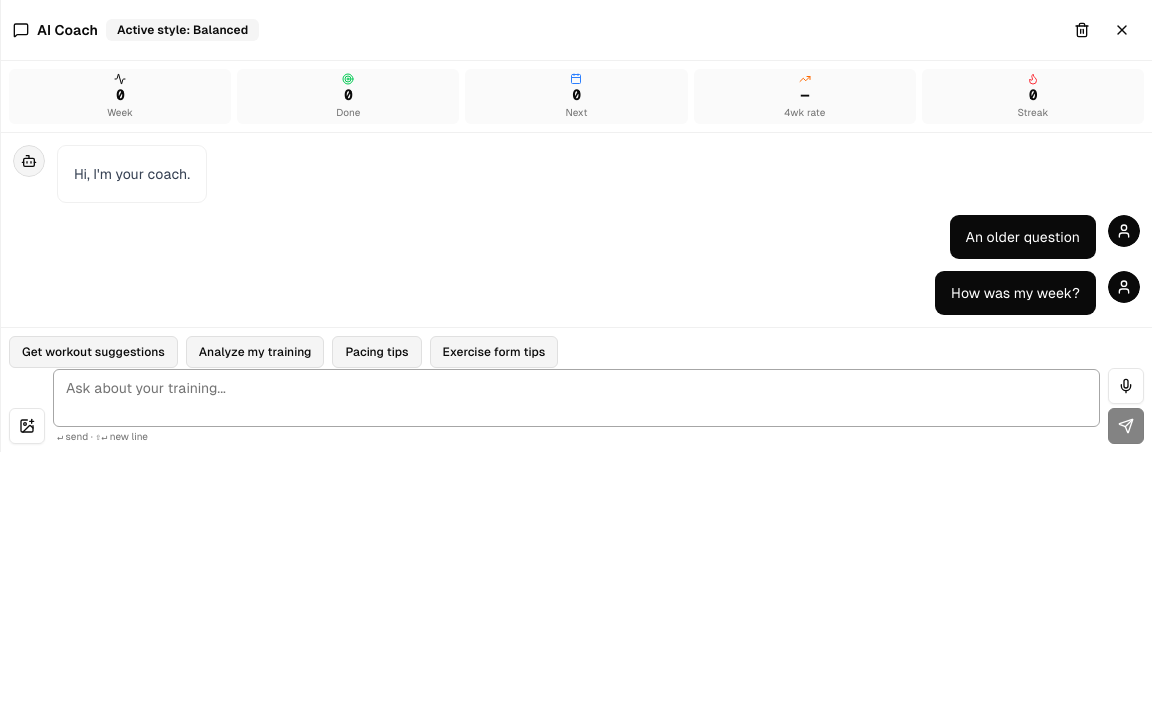
Test: CoachPanel message order › renders the suggestions reply after the question that produced it
The image size is (1152, 720).
Click the button with test id "button-action-suggestions".
click(93, 352)  # box x1=9 y1=336 x2=178 y2=368
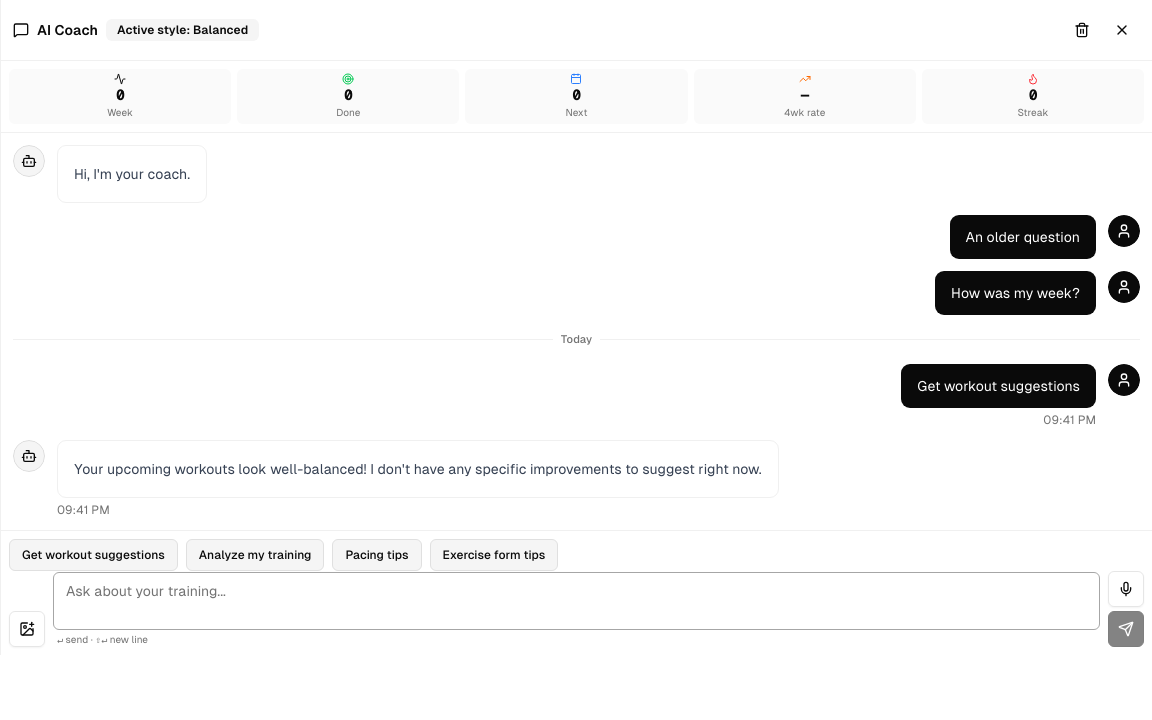
Result: the text "upcoming workouts look well-balanced" is shown at x1=74 y1=460 x2=762 y2=476
